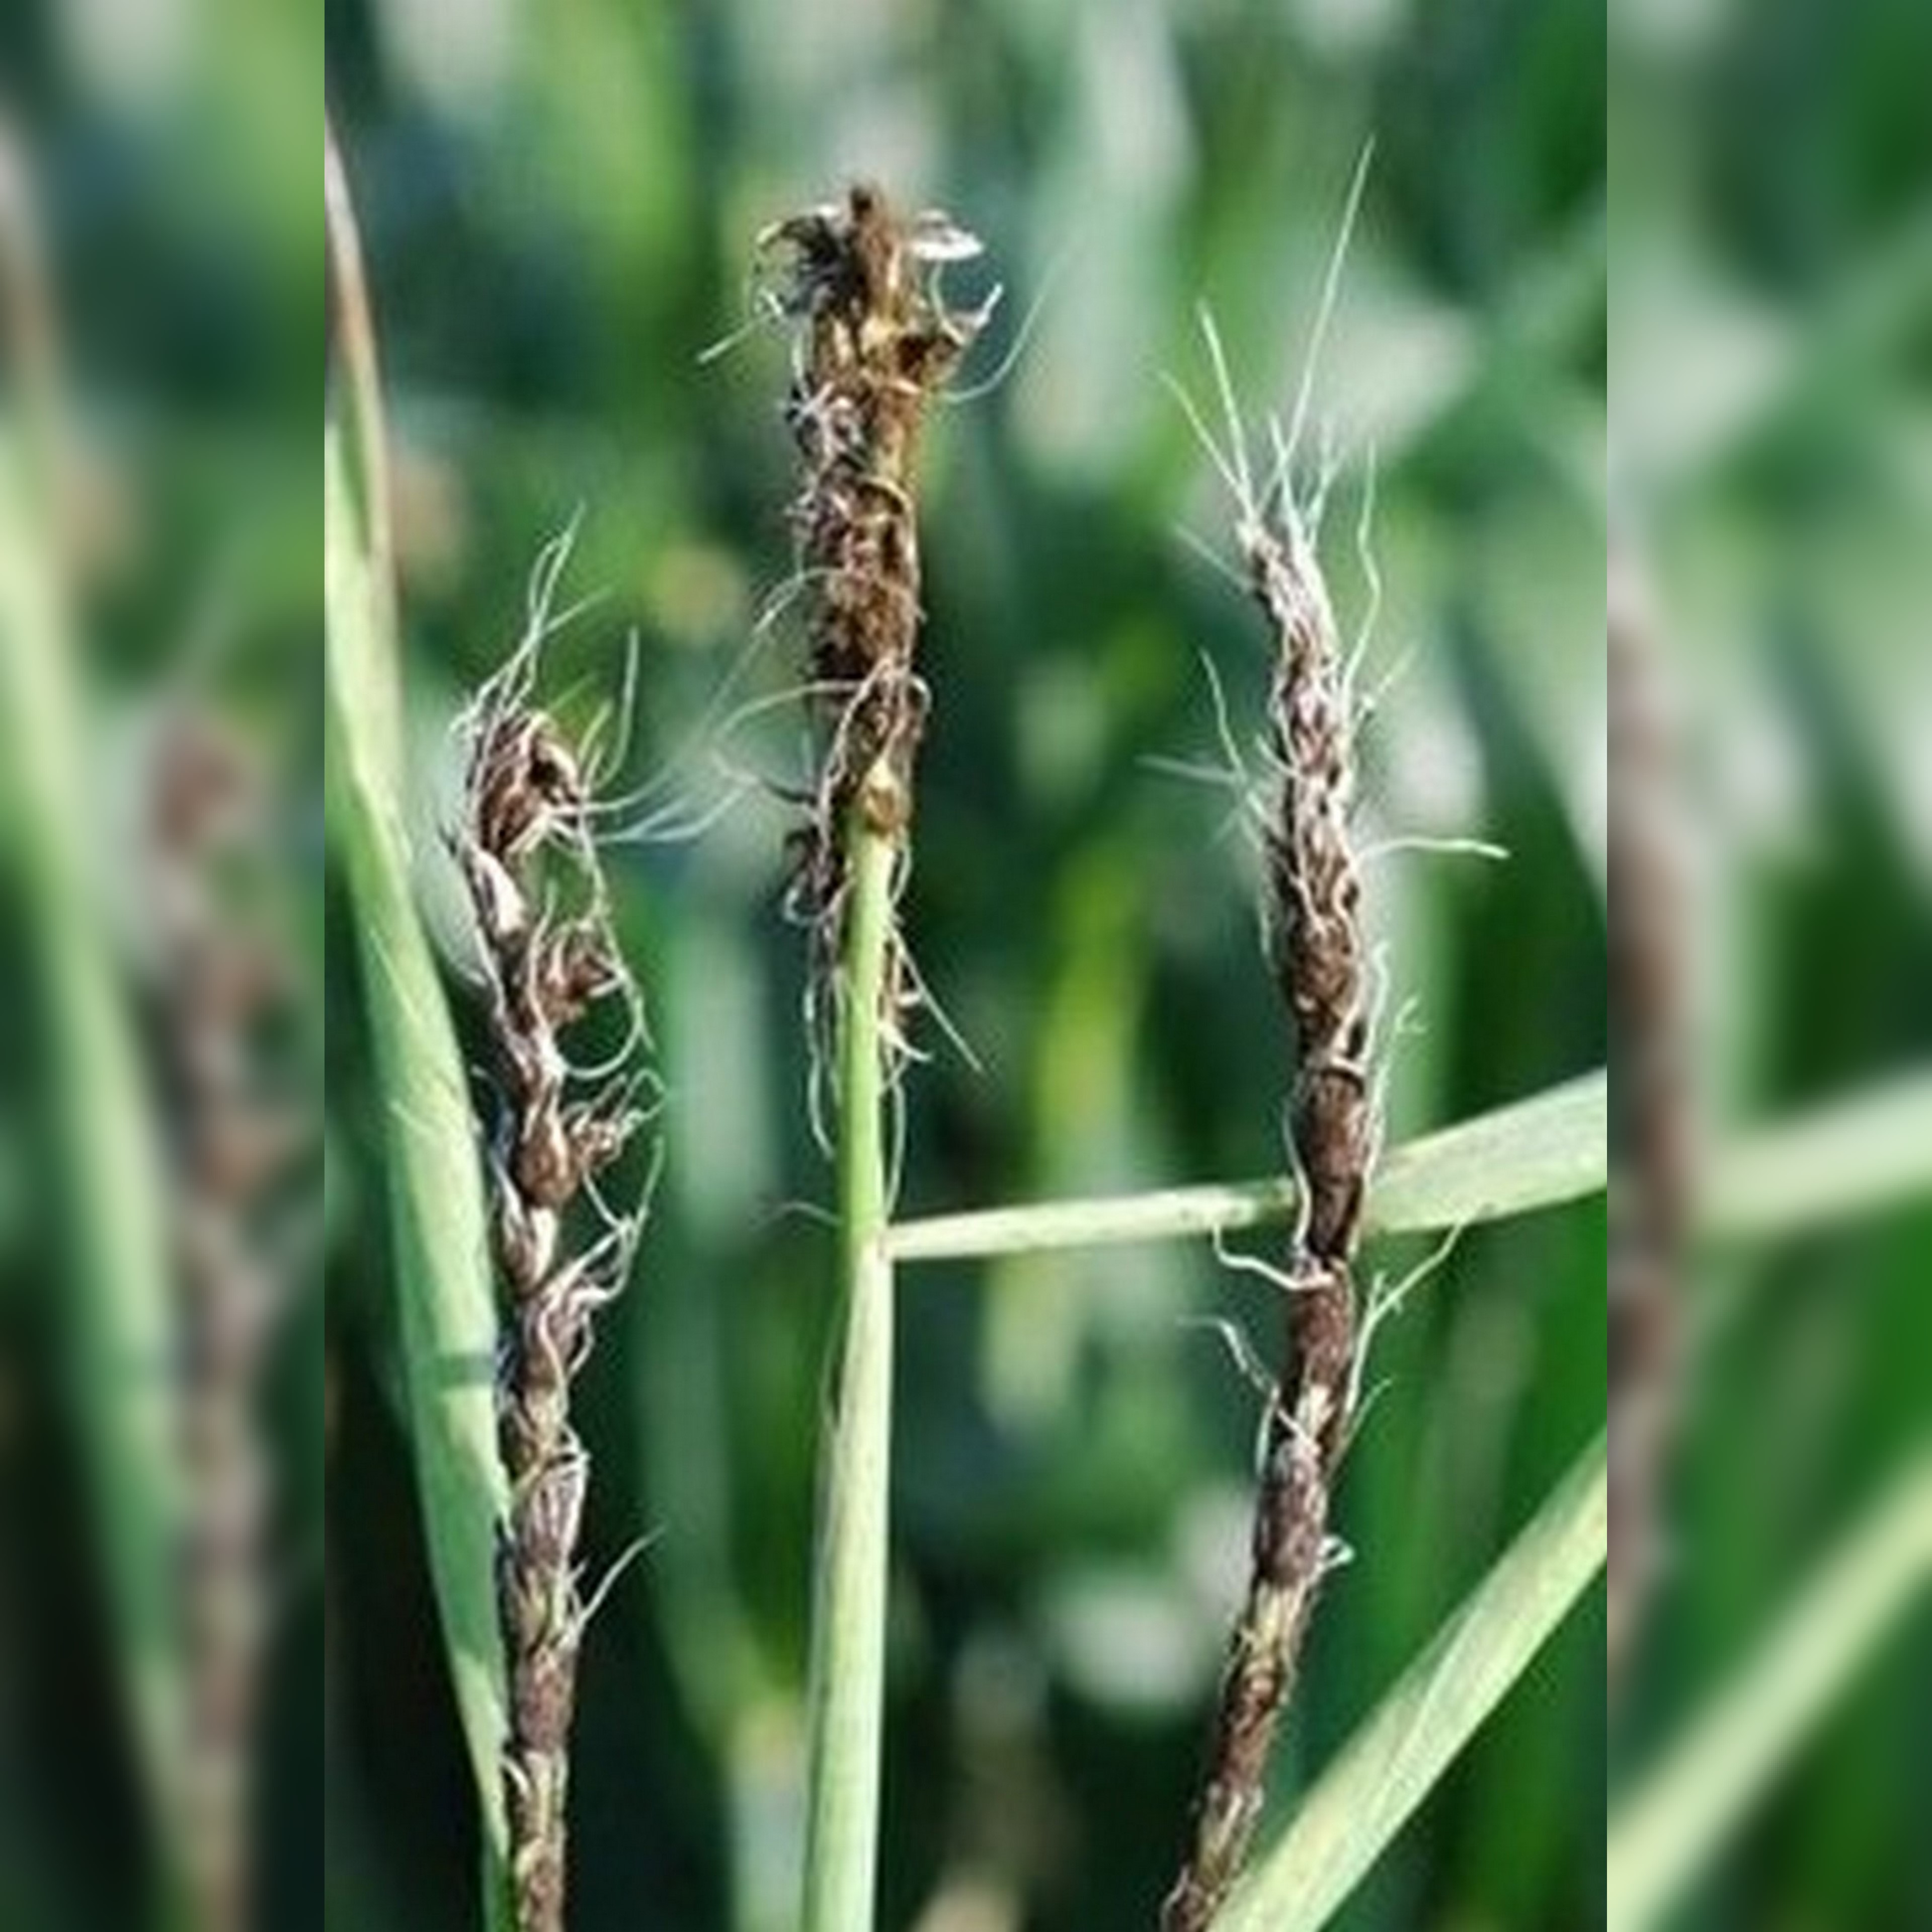Wheat Loose Smut: (743, 145, 1401, 1759), (435, 662, 663, 1838)
